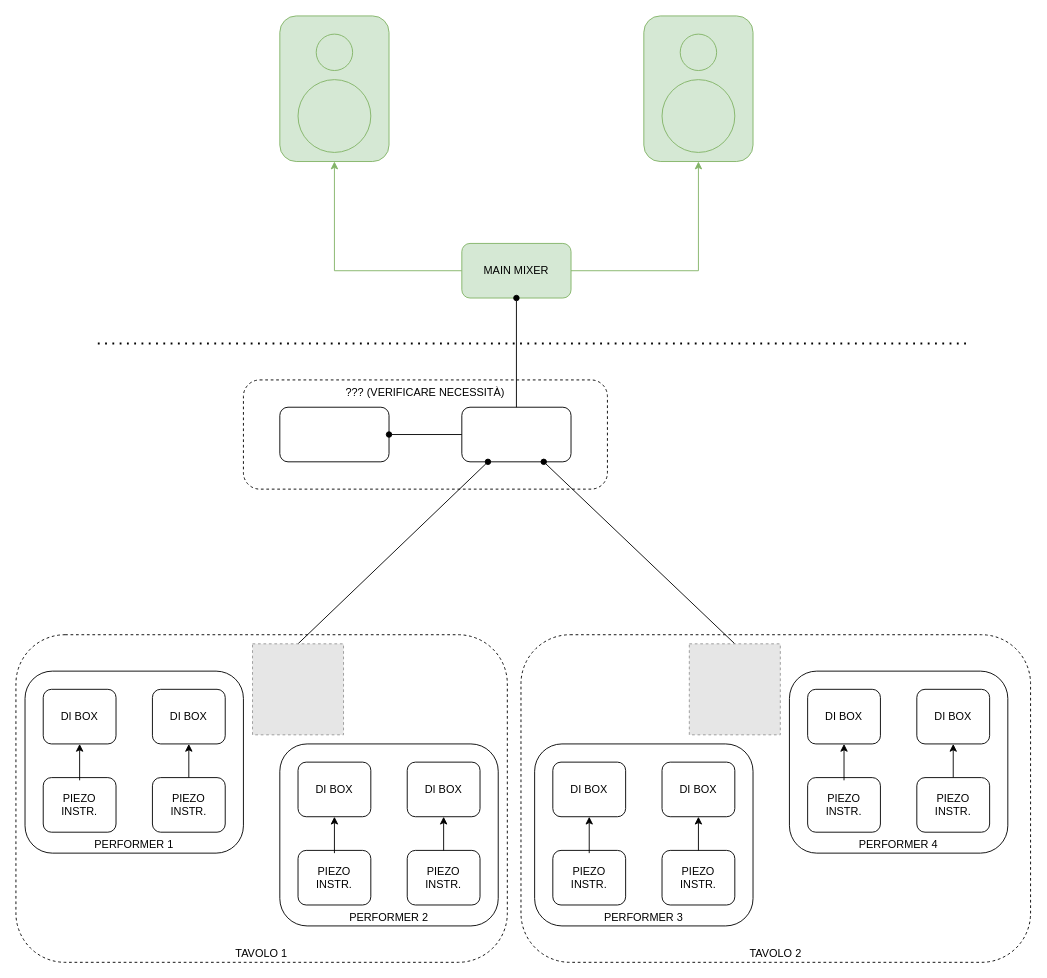
This 1047x978 diagram has some shape labels left out. Grey dashed boxes stand in for pictures. Each missing label, with the centre of its shape:
MAX: point 334,434
SCHEDA AUDIO (2 IN/2 OUT): point 516,434
